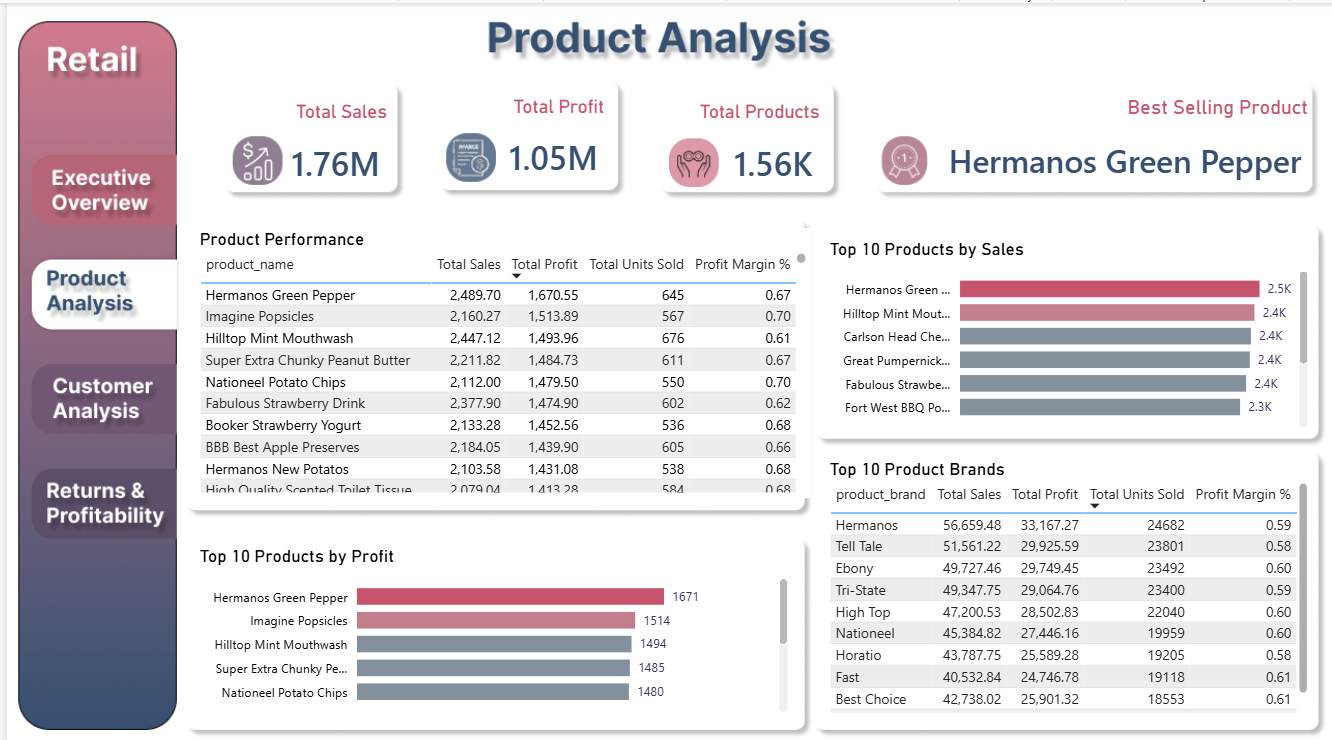

What the dashboard file says about the page in this screenshot:
{"tool":"powerbi","page":{"name":"Product Analysis ","canvas":[1280,720],"ordinal":1},"visuals":[{"type":"tableEx","title":"Product Performance","fields":{"Values":["dimproduct.product_name","Measure.Total Sales","Measure.Total Profit","Measure.Total Units Sold","Measure.Profit Margin %"]},"box":[180.4,216.8,595,260.4],"z":0},{"type":"tableEx","title":"Top 10 Product Brands","fields":{"Values":["dimproduct.product_brand","Measure.Total Sales","Measure.Total Profit","Measure.Total Units Sold","Measure.Profit Margin %"]},"box":[788.5,439.4,471.4,250.2],"z":1000},{"type":"barChart","title":"Top 10 Products by Sales","fields":{"Y":["Measure.Total Sales"],"Category":["dimproduct.product_name"]},"box":[788.5,227,471.4,187.7],"z":2000},{"type":"barChart","title":"Top 10 Products by Profit","fields":{"Category":["dimproduct.product_name"],"Y":["Measure.Total Profit"]},"box":[180.4,523.8,577.6,165.9],"z":3000},{"type":"cardVisual","title":"Total Sales","fields":{"Data":["Measure.Total Sales"]},"box":[226.8,94.1,144.8,94.1],"z":4000},{"type":"cardVisual","title":"Total Profit","fields":{"Data":["Measure.Total Profit"]},"box":[434.3,89.3,147.2,92.9],"z":5000},{"type":"cardVisual","title":"Total Products","fields":{"Data":["Measure.Total Products"]},"box":[639.4,94.1,149.6,94.1],"z":6000},{"type":"cardVisual","title":"Best Selling Product","fields":{"Data":["Measure.Best Selling Product"]},"box":[861.4,89.3,399.3,98.9],"z":7000}]}

Visuals, with their boxes in screenshot pixels (x1, y1, x2, y2), scaled from the page's 1280x720 canvas onto the 1332x740 screenshot:
"Product Performance" tableEx: {"x1": 188, "y1": 223, "x2": 807, "y2": 490}
"Top 10 Product Brands" tableEx: {"x1": 821, "y1": 452, "x2": 1311, "y2": 709}
"Top 10 Products by Sales" barChart: {"x1": 821, "y1": 233, "x2": 1311, "y2": 426}
"Top 10 Products by Profit" barChart: {"x1": 188, "y1": 538, "x2": 789, "y2": 709}
"Total Sales" cardVisual: {"x1": 236, "y1": 97, "x2": 387, "y2": 193}
"Total Profit" cardVisual: {"x1": 452, "y1": 92, "x2": 605, "y2": 187}
"Total Products" cardVisual: {"x1": 665, "y1": 97, "x2": 821, "y2": 193}
"Best Selling Product" cardVisual: {"x1": 896, "y1": 92, "x2": 1312, "y2": 193}
